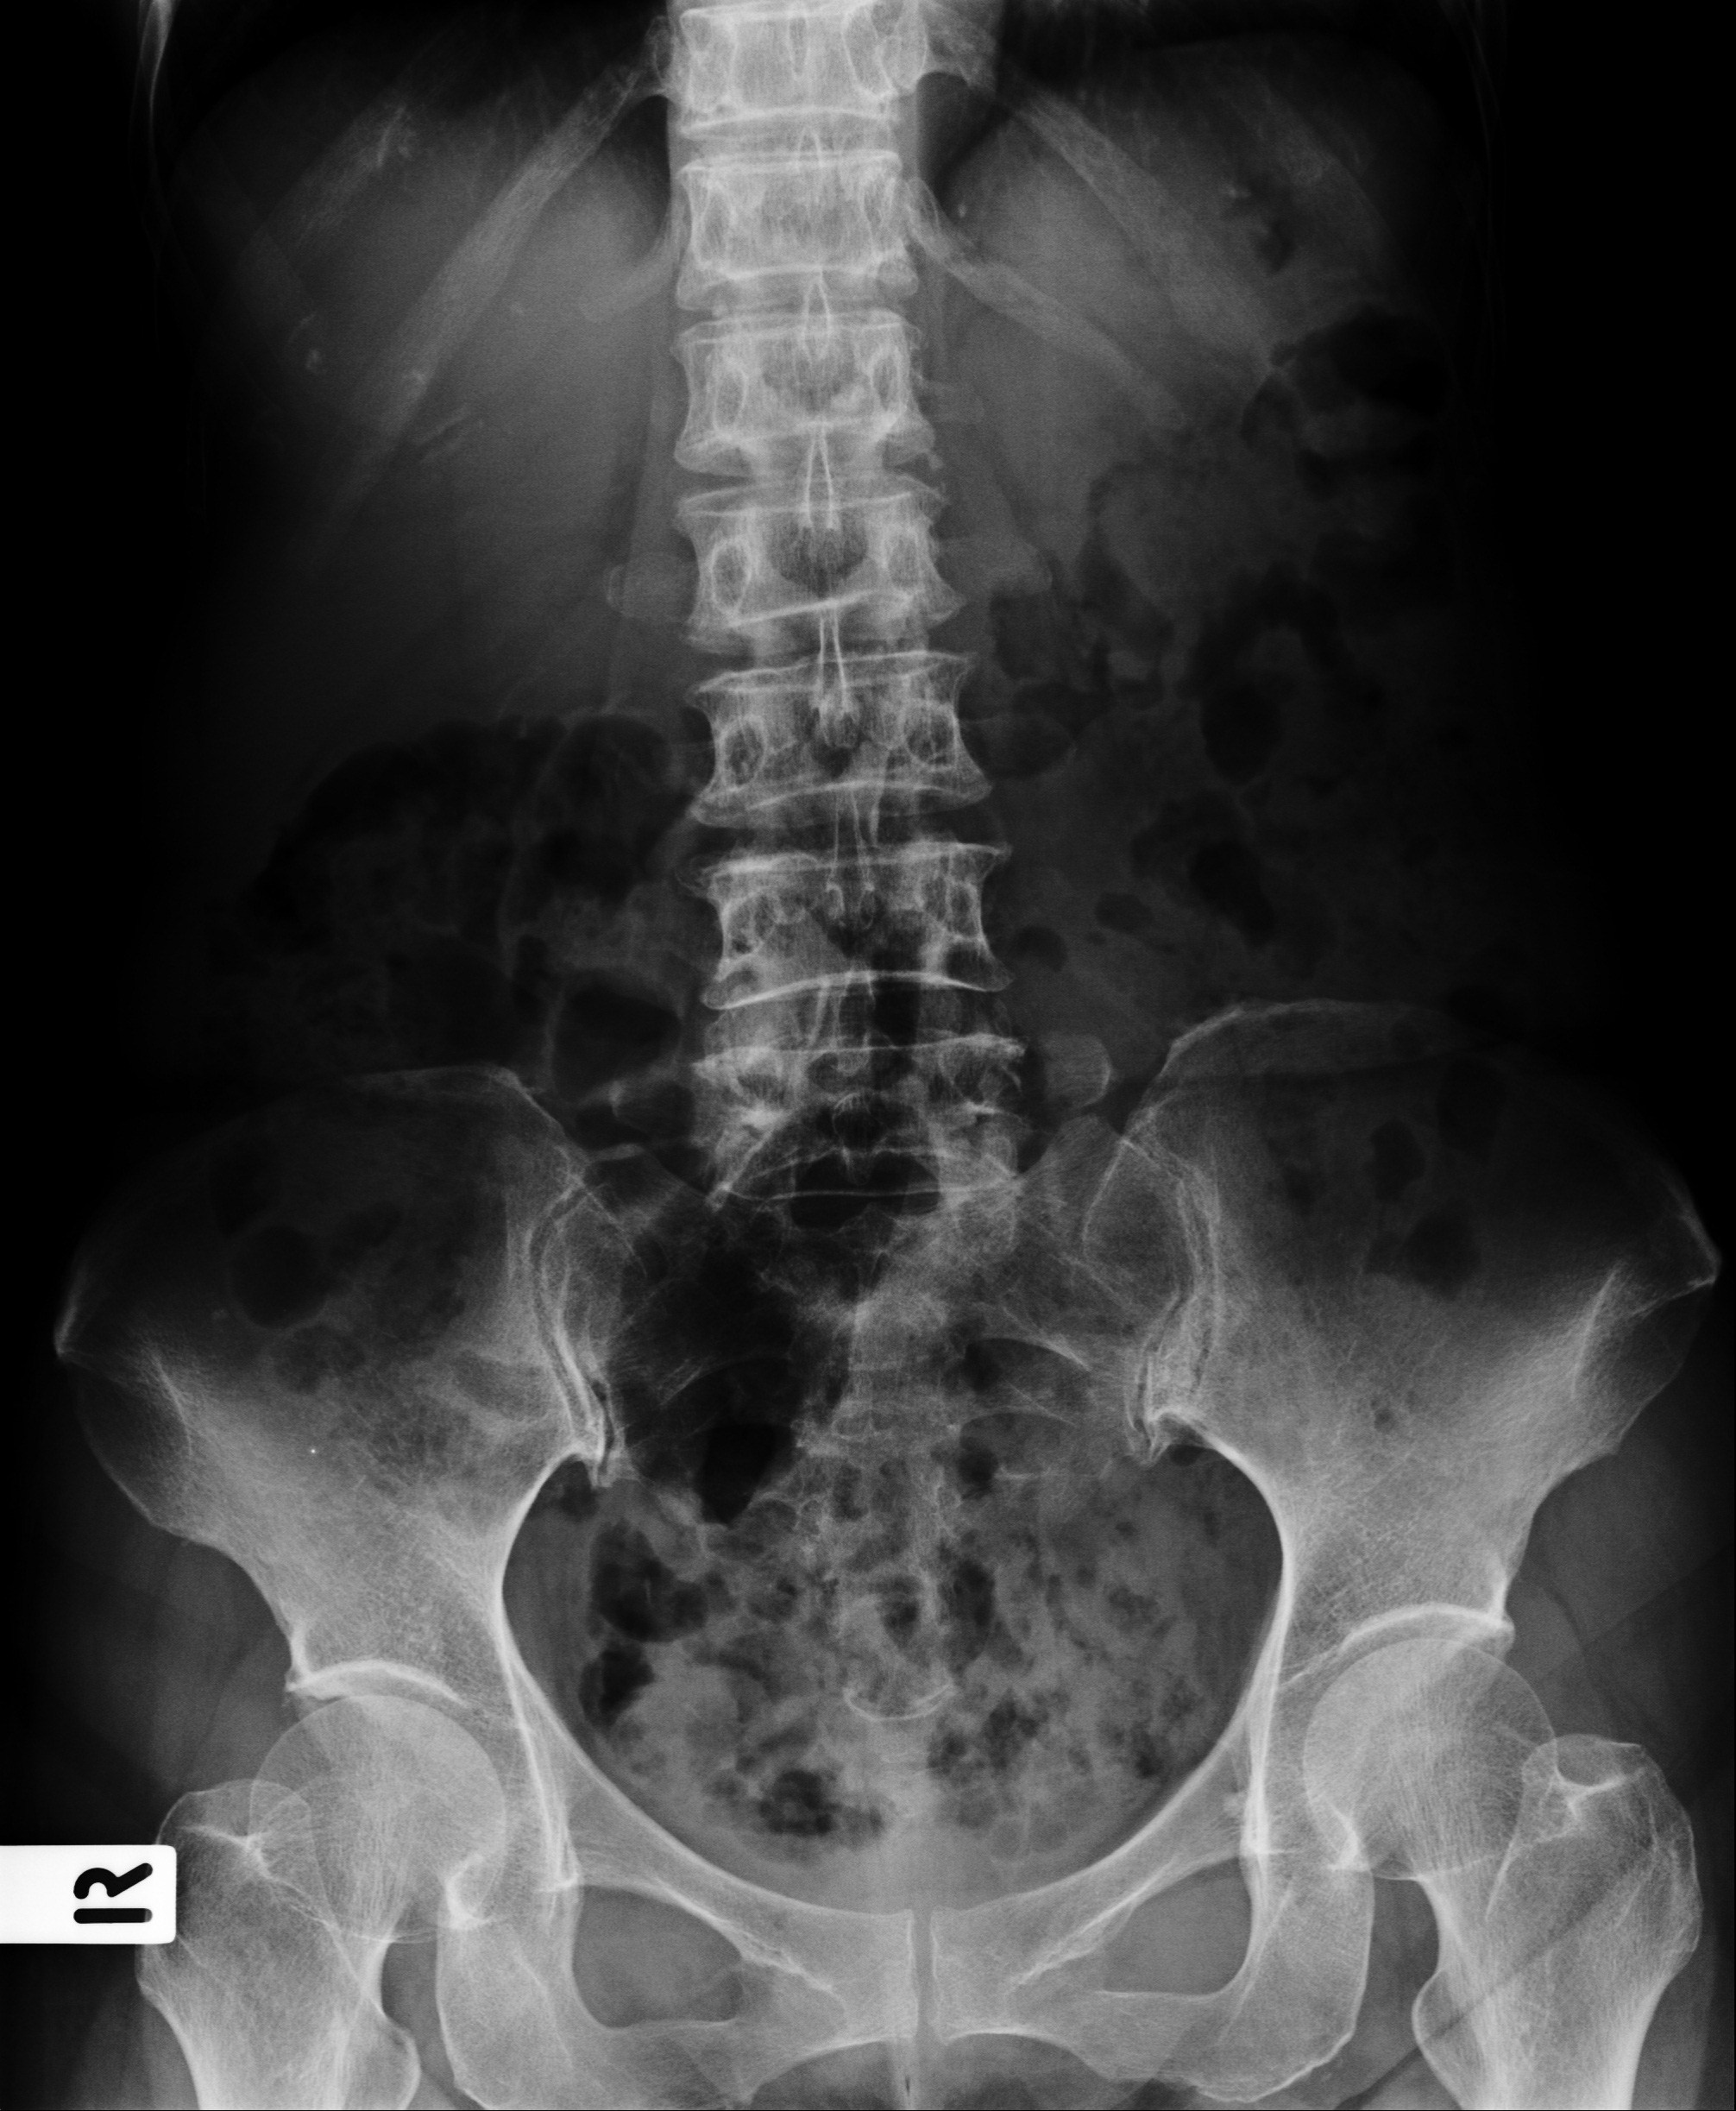lumbar scoliosis: (644, 19, 1017, 1343)
